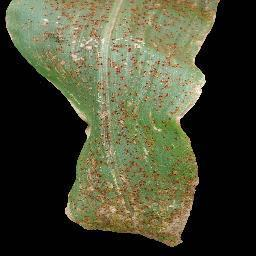Corn_Common_Rust: (98, 0, 221, 249), (5, 0, 99, 118), (63, 118, 97, 234)
